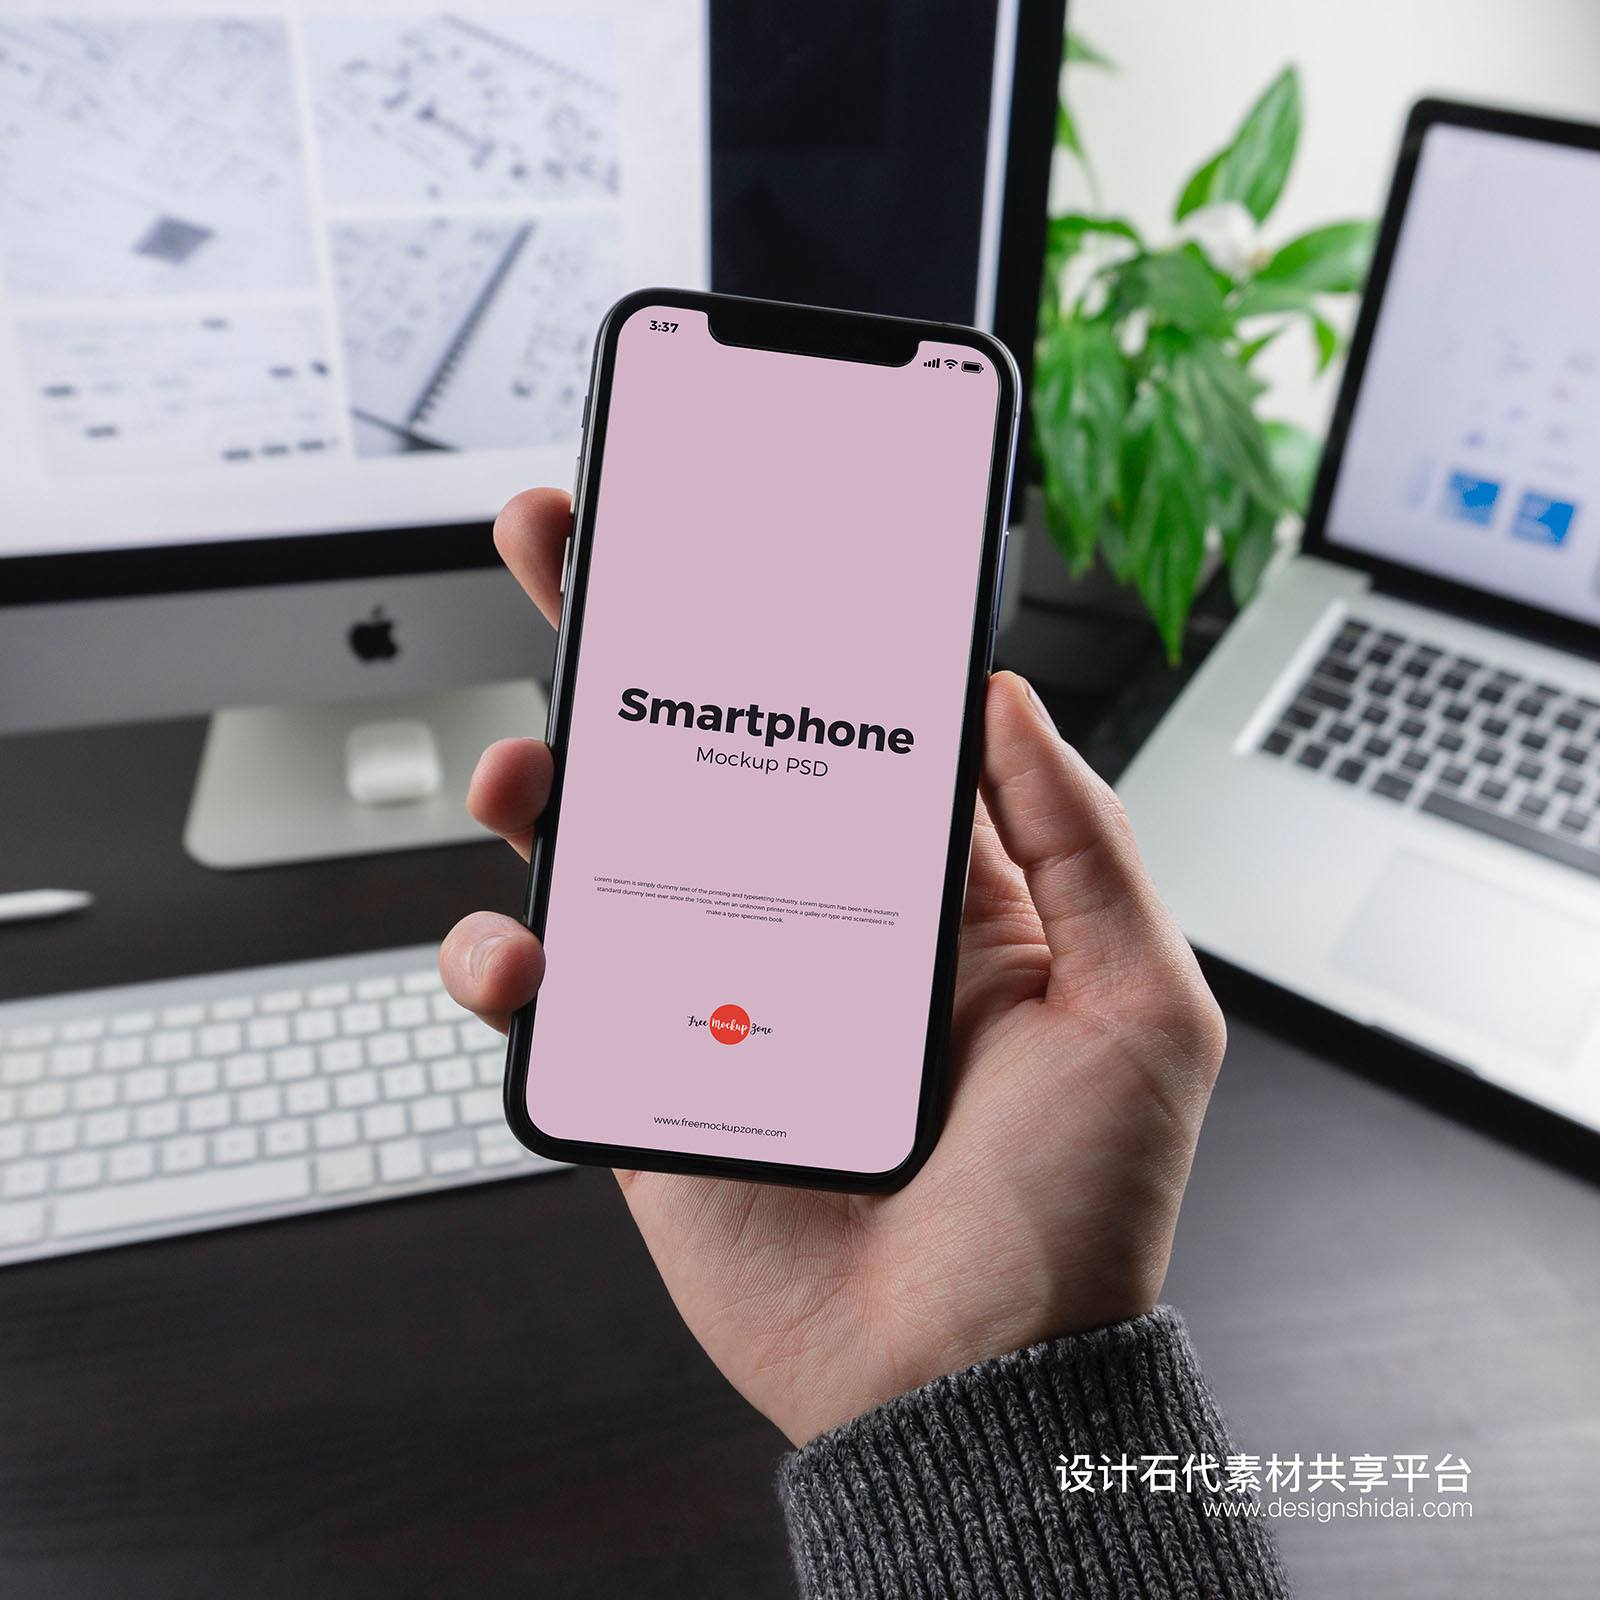phone: (472, 275, 1209, 1303)
